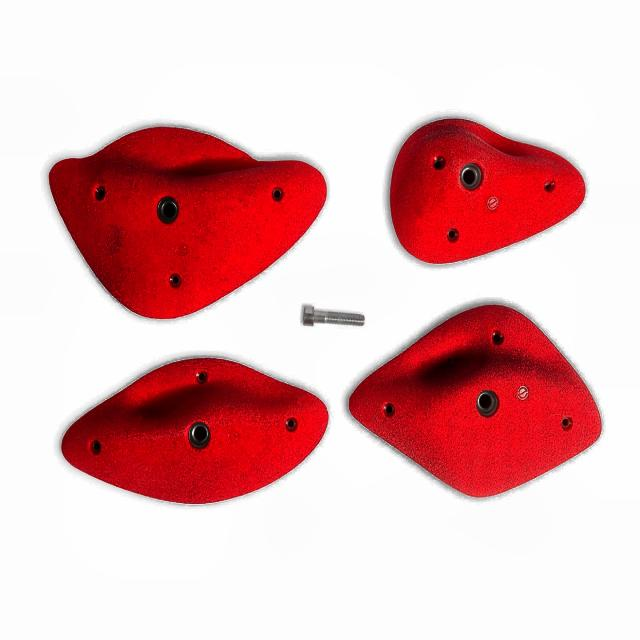Hold: (46, 121, 327, 327), (352, 309, 604, 498), (58, 360, 330, 505), (387, 117, 580, 265)
